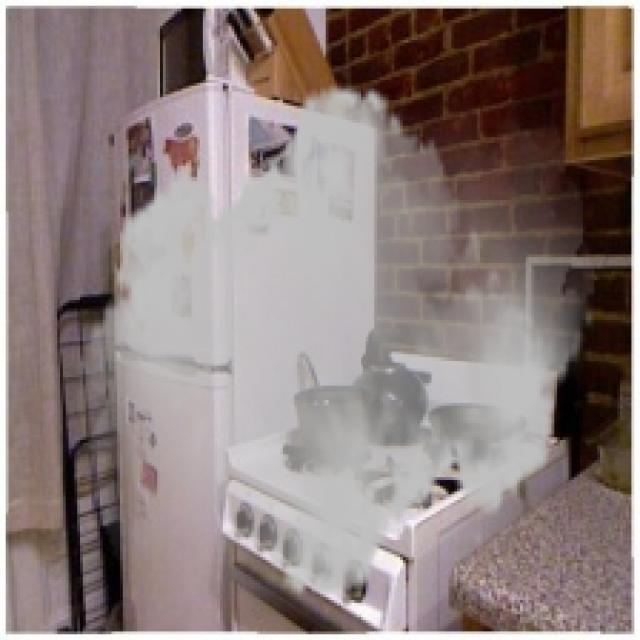smoke: (77, 63, 594, 620)
